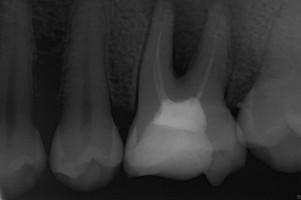Dental Caries: (172, 1, 209, 77), (225, 0, 245, 67), (143, 0, 158, 23)
